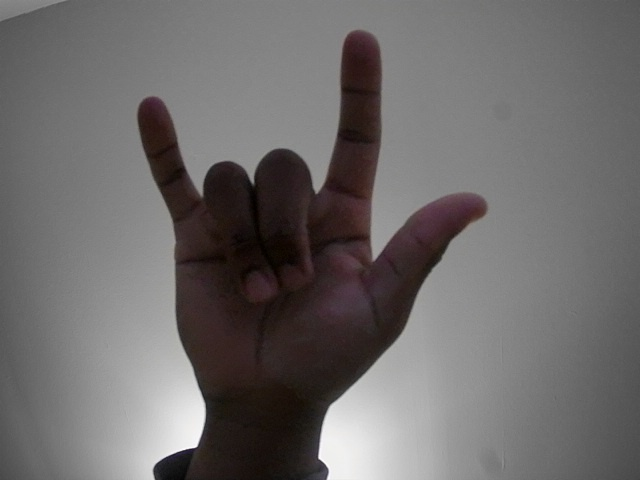ILoveYou: (117, 15, 499, 473)
